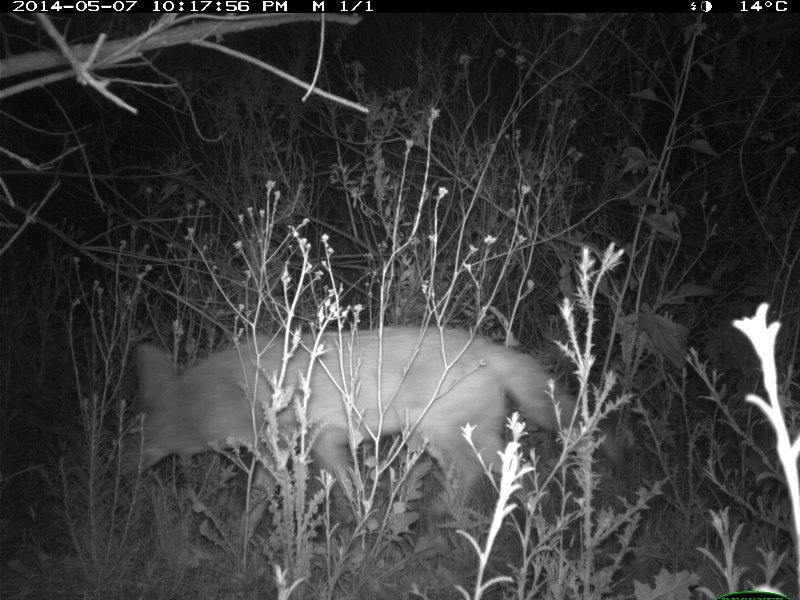coyote: (107, 329, 589, 551)
